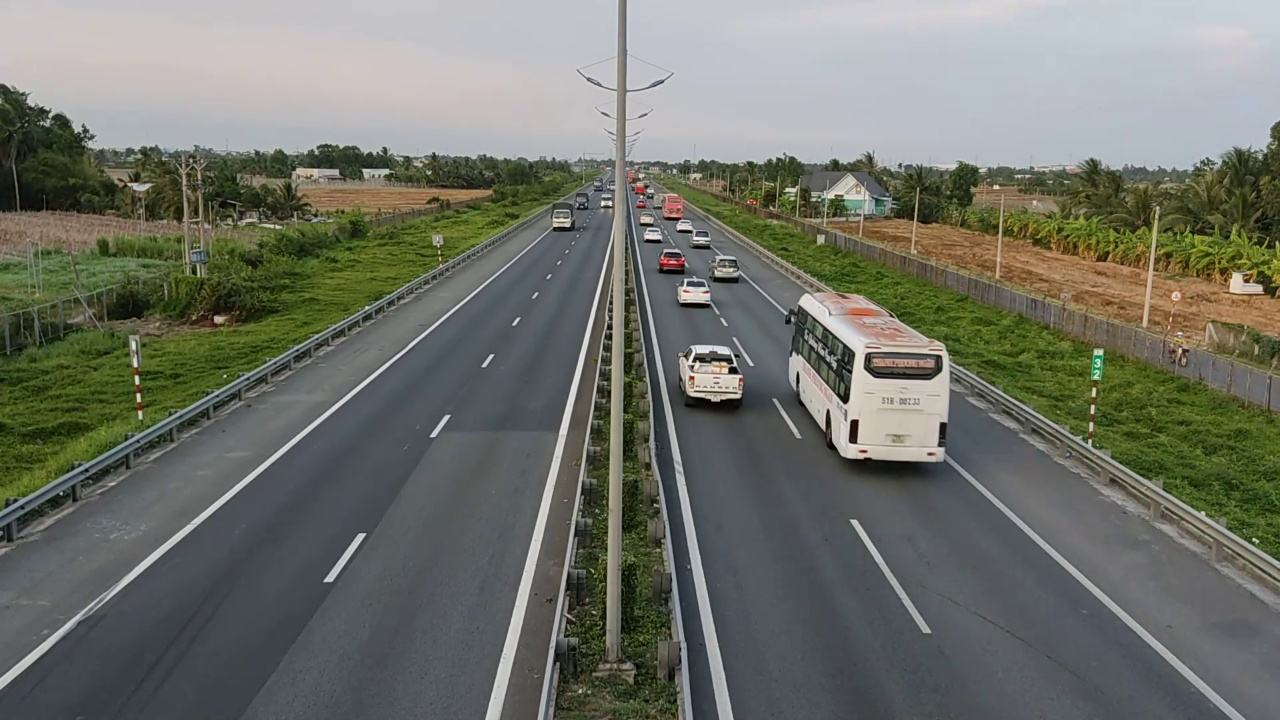bus: (787, 289, 951, 463)
car: (675, 337, 749, 409), (677, 276, 711, 306), (709, 255, 741, 281), (657, 248, 687, 272), (643, 225, 663, 243)
